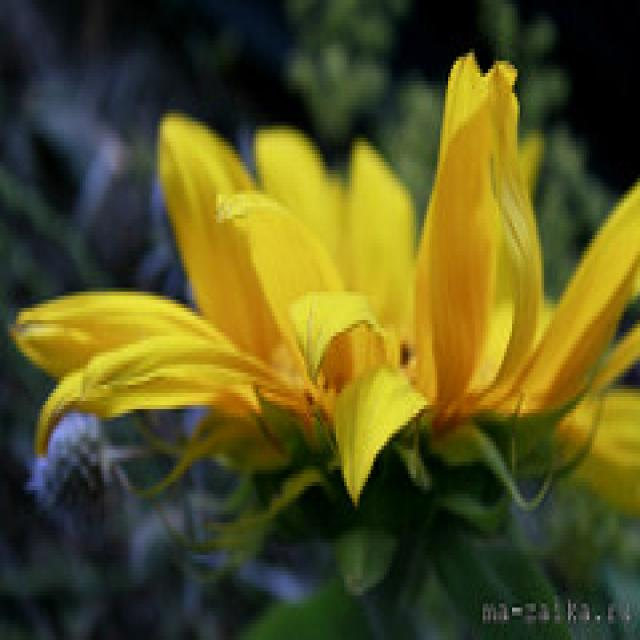sunflower: (21, 39, 640, 536)
